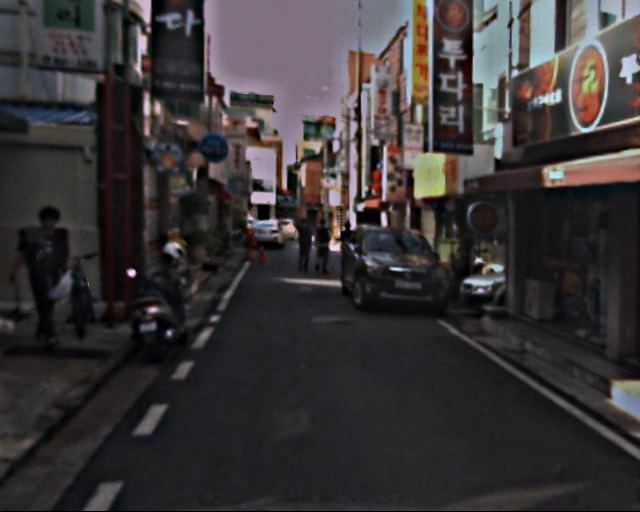person: (22, 204, 89, 347), (292, 218, 316, 276), (312, 218, 336, 276), (336, 221, 358, 274)
